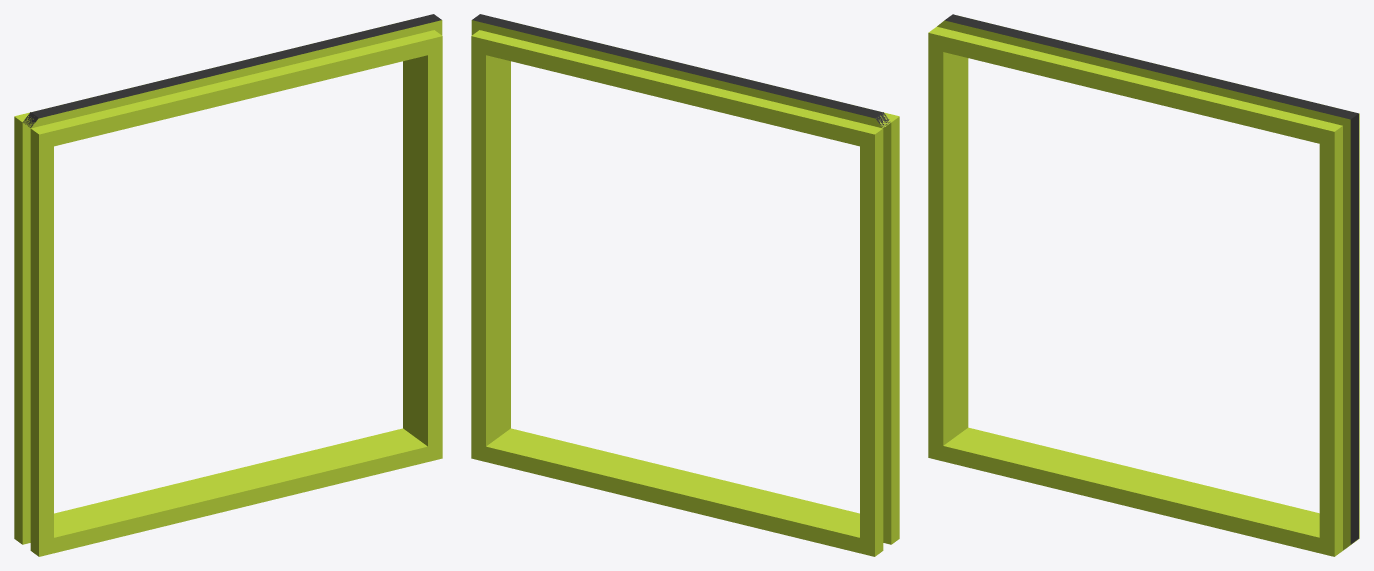
Rendered from rhombus.fbx.
3 views of the same model, side by side, from view 1: azimuth 30°, elevation 25°; view 2: azimuth 150°, elevation 25°; view 3: azimuth 330°, elevation 25° (orthographic).
Visible parts, largest first — view 1: Cube; view 2: Cube; view 3: Cube.
Part boxes in pixels (box(x1,y1,x2,y2)): Cube: box(14, 14, 442, 556); Cube: box(471, 14, 899, 556); Cube: box(928, 14, 1359, 556).
Bounding box in the file's own units: 204 × 204 × 21.38.
